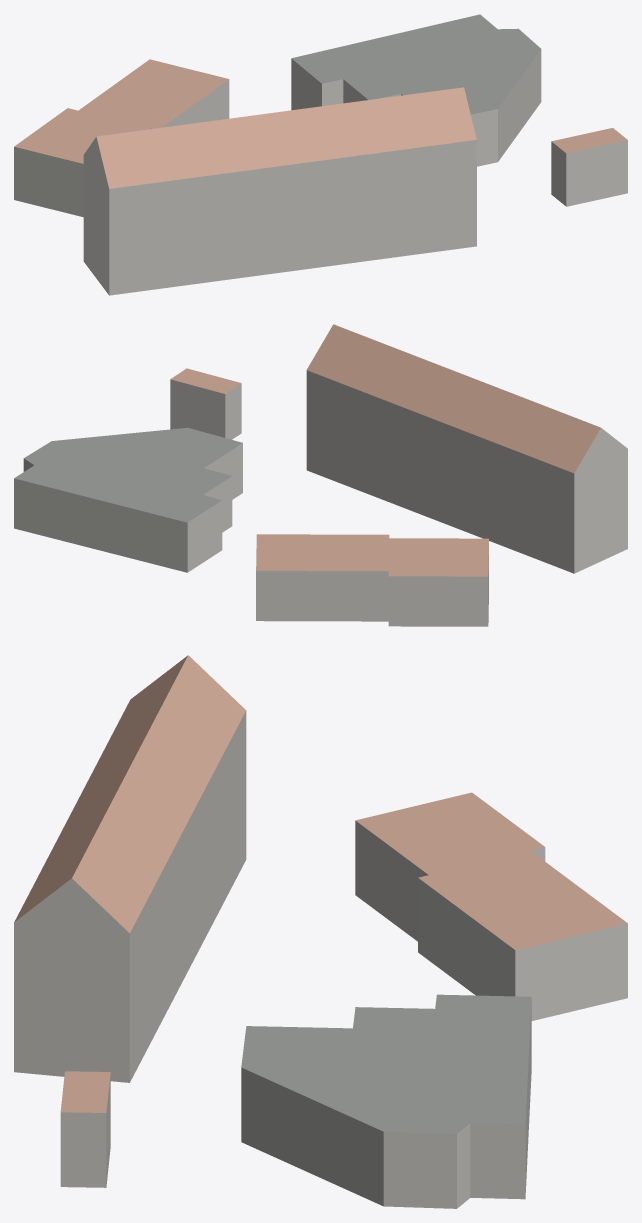
Rendered from gridID_0.dae.
3 renders of one model, top to bottom at view 1: azimuth 30°, elevation 25°; view 2: azimuth 150°, elevation 25°; view 3: azimuth 270°, elevation 25°, orthographic. The views are drawn at different scales.
Parts seen in each view (by area): view 1: model_gridID_0_w390190521, model_gridID_0_w390190514, model_gridID_0_w390190536, model_gridID_0_w390190536_001, model_gridID_0_w390190534; view 2: model_gridID_0_w390190521, model_gridID_0_w390190514, model_gridID_0_w390190536_001, model_gridID_0_w390190536, model_gridID_0_w390190534; view 3: model_gridID_0_w390190521, model_gridID_0_w390190514, model_gridID_0_w390190536_001, model_gridID_0_w390190536, model_gridID_0_w390190534.
Boxes of the visible parts, x1,y1,x2,y2 form: model_gridID_0_w390190521: (83,87,476,295); model_gridID_0_w390190514: (291,14,541,166); model_gridID_0_w390190536: (14,108,149,217); model_gridID_0_w390190536_001: (79,59,229,129); model_gridID_0_w390190534: (551,128,627,206); model_gridID_0_w390190521: (306,324,627,573); model_gridID_0_w390190514: (14,427,242,572); model_gridID_0_w390190536_001: (256,534,389,621); model_gridID_0_w390190536: (388,538,488,626); model_gridID_0_w390190534: (170,368,241,439); model_gridID_0_w390190521: (14,655,246,1082); model_gridID_0_w390190514: (241,994,531,1208); model_gridID_0_w390190536_001: (418,850,627,1020); model_gridID_0_w390190536: (355,792,545,941); model_gridID_0_w390190534: (60,1071,110,1187).
Size of the model in its own units: 77.43 by 55.82 by 20.
